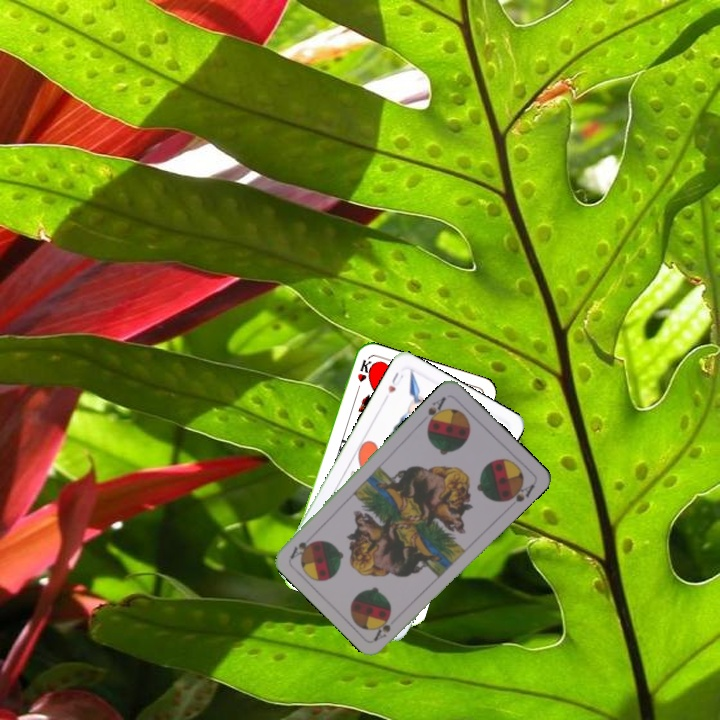HK: (352, 355, 374, 395)
HU: (384, 368, 406, 396)
SA: (423, 392, 449, 429), (370, 613, 393, 643)
